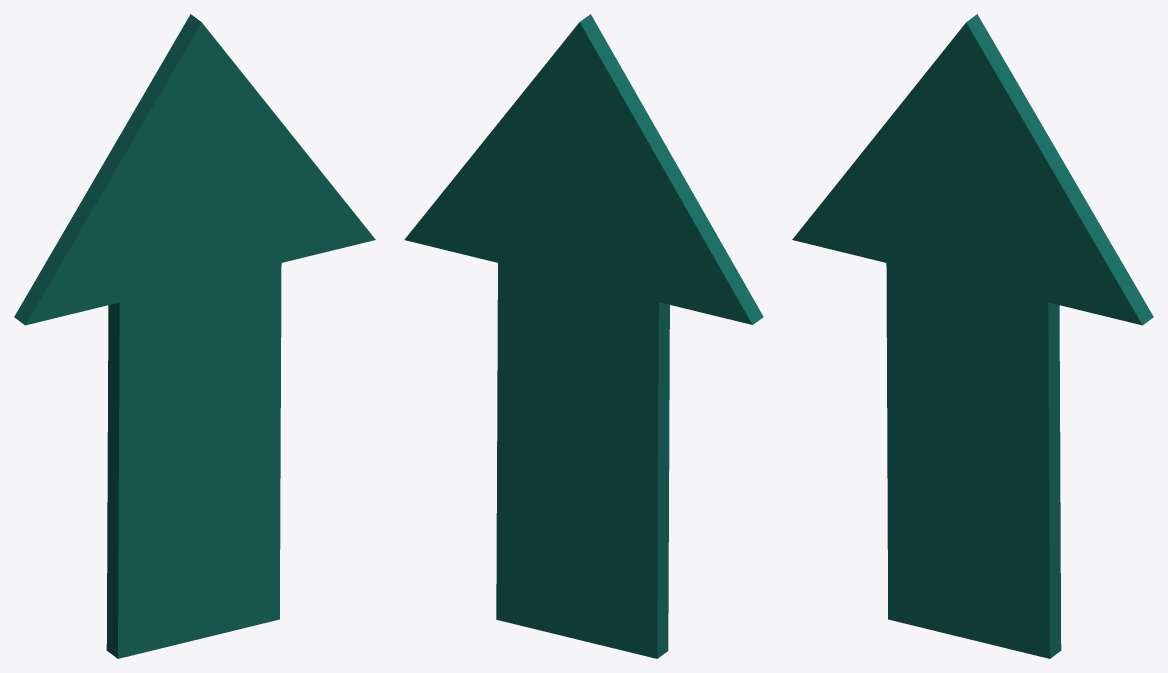
File: arrow.dae
3 views of the same model, side by side, from view 1: azimuth 30°, elevation 25°; view 2: azimuth 150°, elevation 25°; view 3: azimuth 330°, elevation 25° (orthographic).
Visible parts, largest first — view 1: arrow; view 2: arrow; view 3: arrow.
Boxes of the visible parts, x1,y1,x2,y2 form: arrow: [14, 14, 375, 658]; arrow: [404, 14, 763, 658]; arrow: [792, 14, 1153, 658].
Size of the model in its own units: 0.78 by 0.0543 by 1.32.
Materials: 1 (1 with a texture image).
